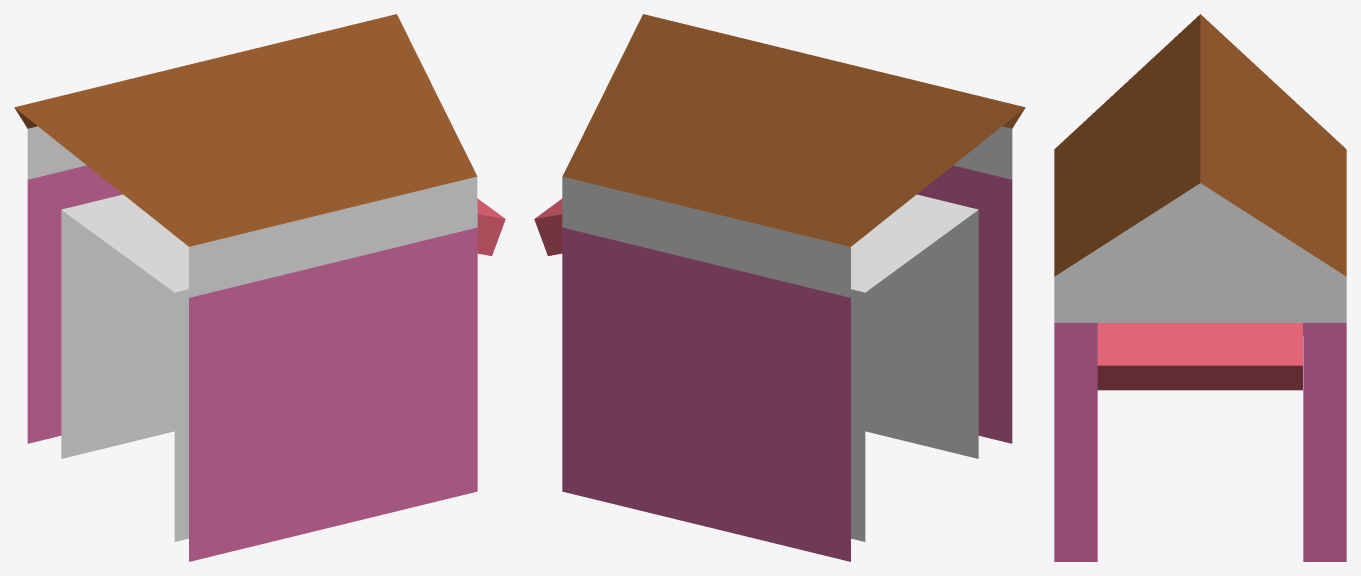
The model's file is house01_upgrade_s01.FBX.
3 views of the same model, side by side, from view 1: azimuth 30°, elevation 25°; view 2: azimuth 150°, elevation 25°; view 3: azimuth 270°, elevation 25° (orthographic). The views are drawn at different scales.
Parts seen in each view (by area): view 1: house01_upgrade_s01; view 2: house01_upgrade_s01; view 3: house01_upgrade_s01.
Boxes of the visible parts, bbox=[...] form: house01_upgrade_s01: bbox=[14, 14, 505, 561]; house01_upgrade_s01: bbox=[534, 14, 1025, 561]; house01_upgrade_s01: bbox=[1054, 14, 1346, 561].
Size of the model in its own units: 370 by 238 by 340.
1 material, 1 textured.
